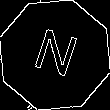N_S: (28, 25, 82, 85)
